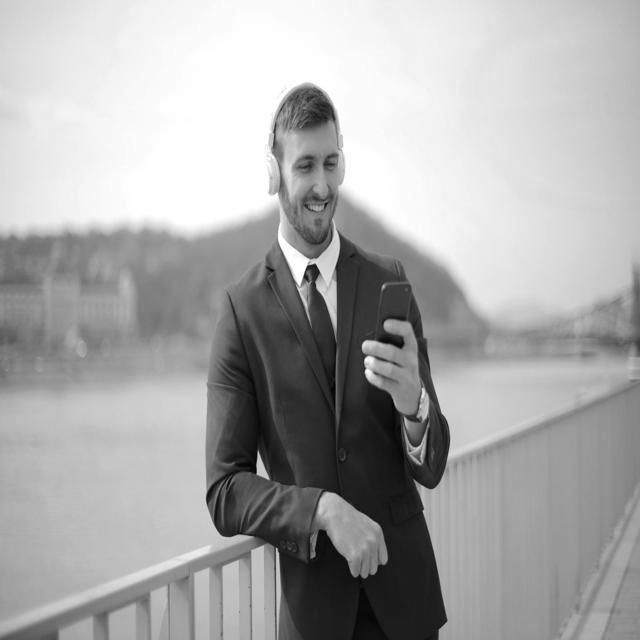Happiness: (278, 124, 344, 244)
